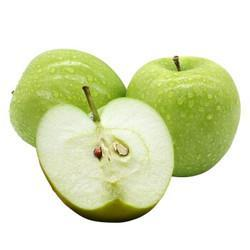apple: (124, 60, 237, 174), (10, 48, 128, 147)
